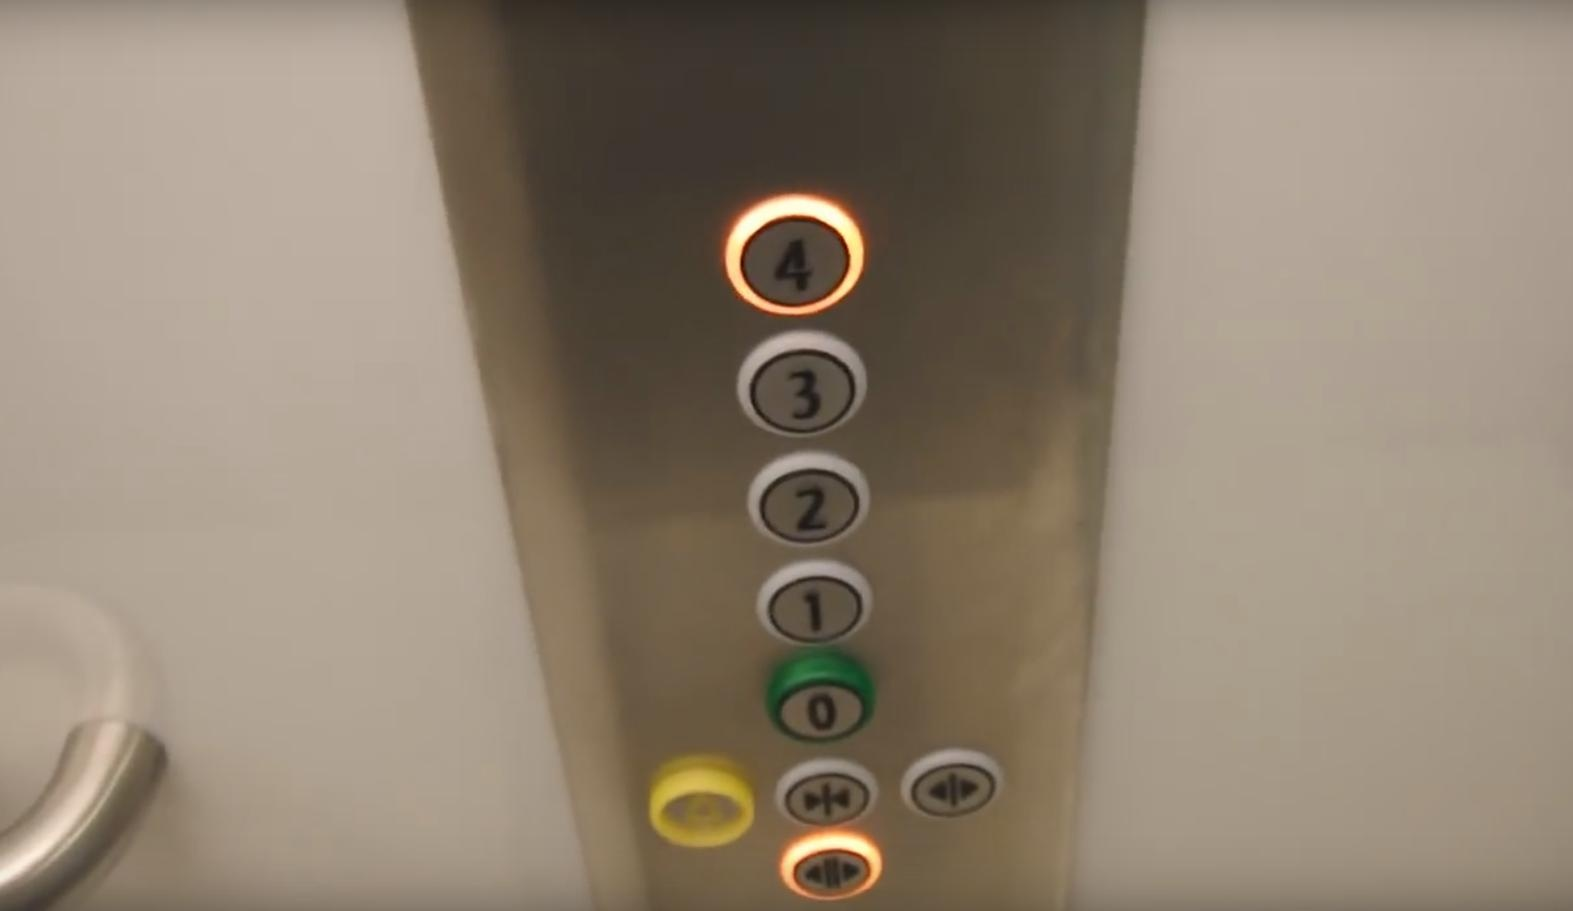0: (761, 647, 874, 744)
1: (752, 559, 873, 647)
2: (746, 448, 871, 548)
3: (733, 328, 871, 442)
4: (720, 190, 867, 319)
blur: (646, 756, 756, 854)
close: (772, 754, 882, 830)
open: (777, 827, 886, 904), (899, 746, 1005, 823)
